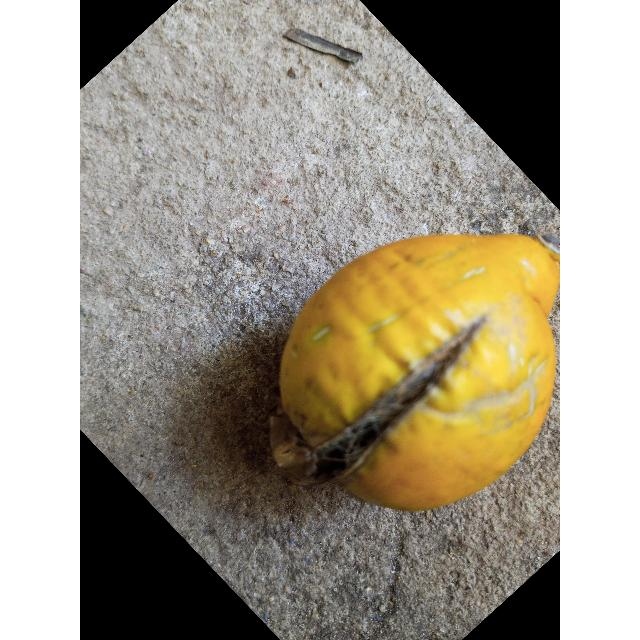damaged: (268, 234, 560, 511)
